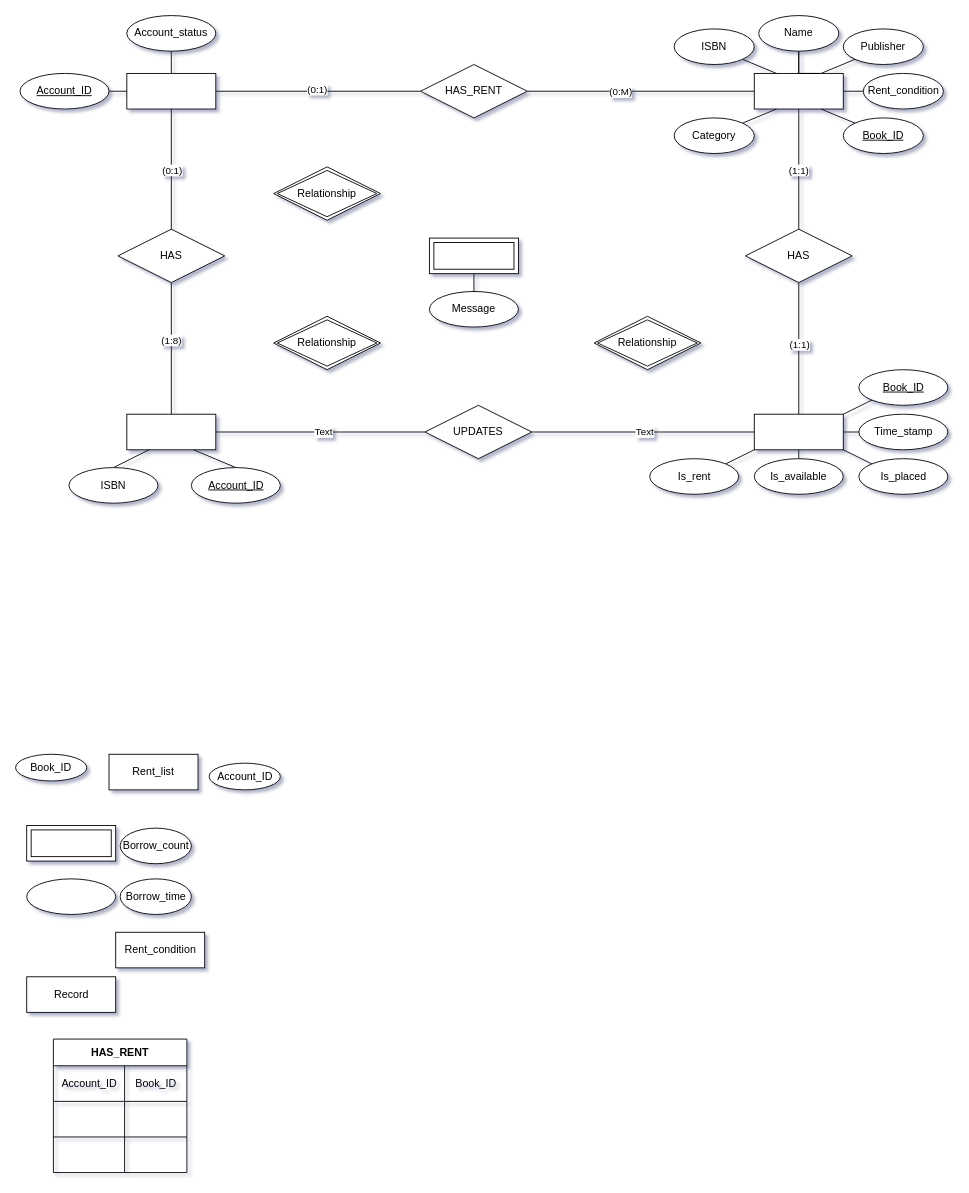
This 969x1193 diagram has some shape labels left out. Here are the shapes that lost their labels. From the top down, the centre of each, then its label:
At (x=171, y=91): "User".
At (x=798, y=91): "Book".
At (x=473, y=255): "Noticification".
At (x=171, y=431): "Want_list".
At (x=798, y=431): "Book_Status".
At (x=71, y=843): "History".
At (x=71, y=896): "Borrow_name".
